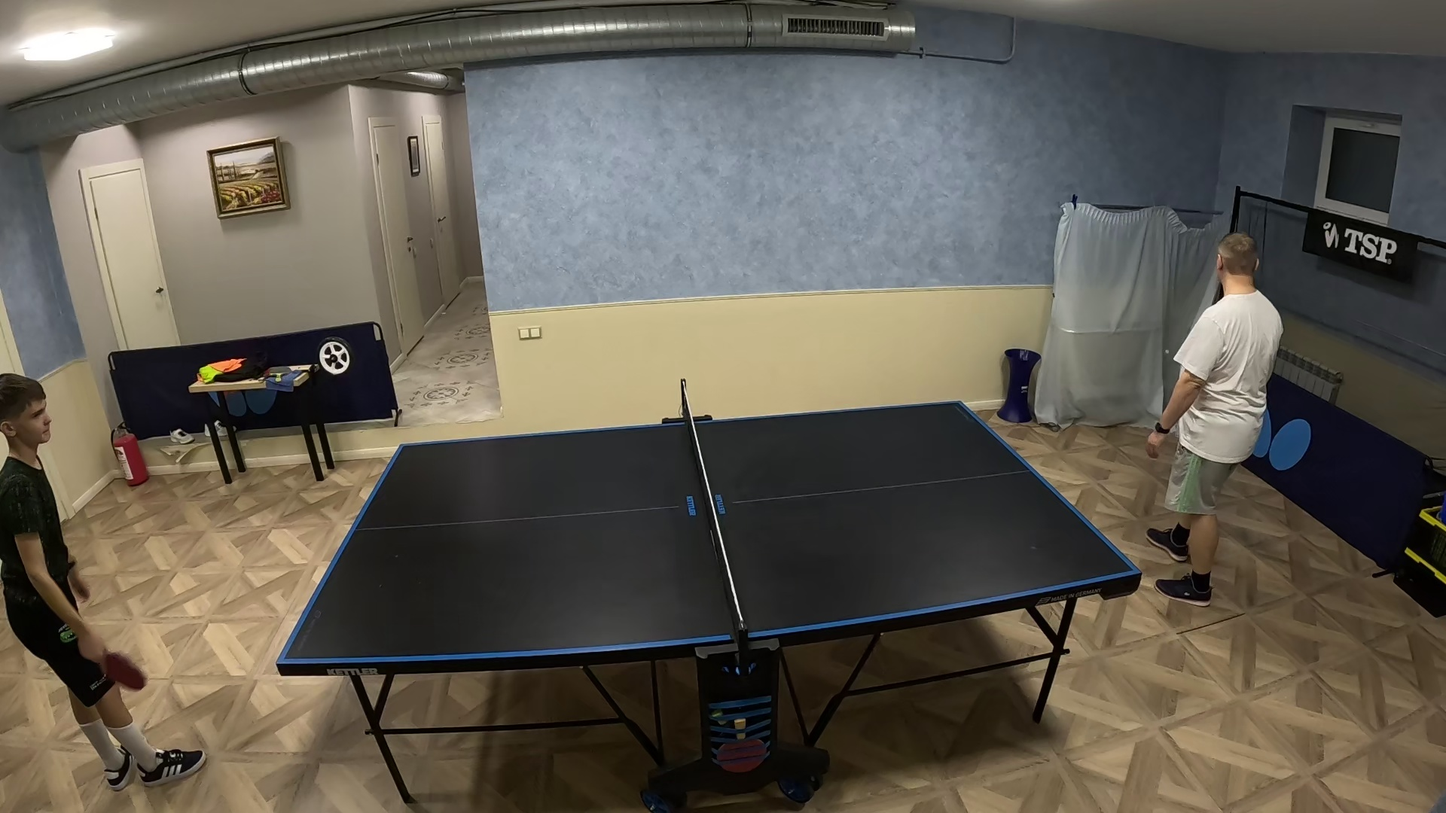Ball: (1165, 349, 1169, 354)
